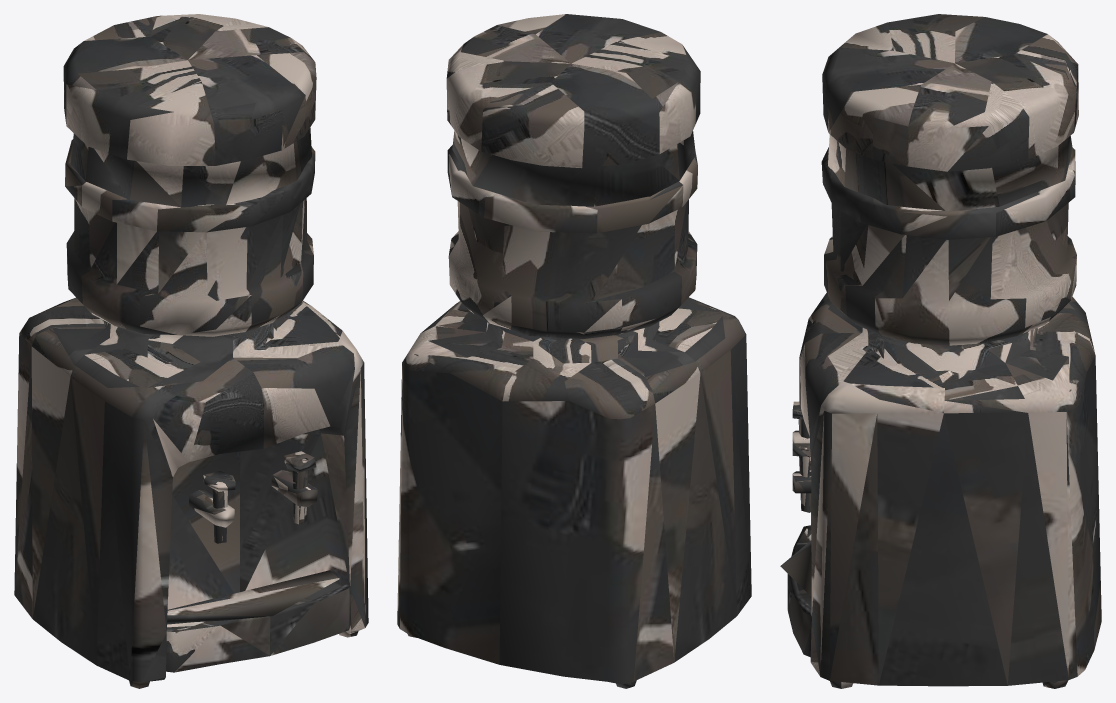
The model's file is WaterCooler.fbx.
3 renders of one model, left to right at view 1: azimuth 30°, elevation 25°; view 2: azimuth 150°, elevation 25°; view 3: azimuth 270°, elevation 25°, orthographic. The views are drawn at different scales.
Visible parts, largest first — view 1: PROP_WaterCooler; view 2: PROP_WaterCooler; view 3: PROP_WaterCooler.
Part boxes in pixels (<box>): PROP_WaterCooler: <box>14,14,368,688</box>; PROP_WaterCooler: <box>397,14,751,688</box>; PROP_WaterCooler: <box>780,14,1101,688</box>.
Size of the model in its own units: 59.06 by 120 by 60.94.
